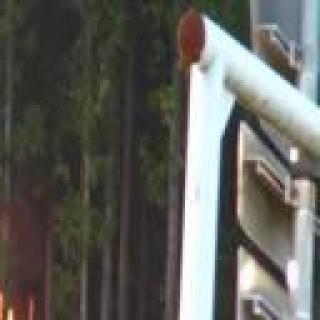fire: (0, 170, 24, 320)
